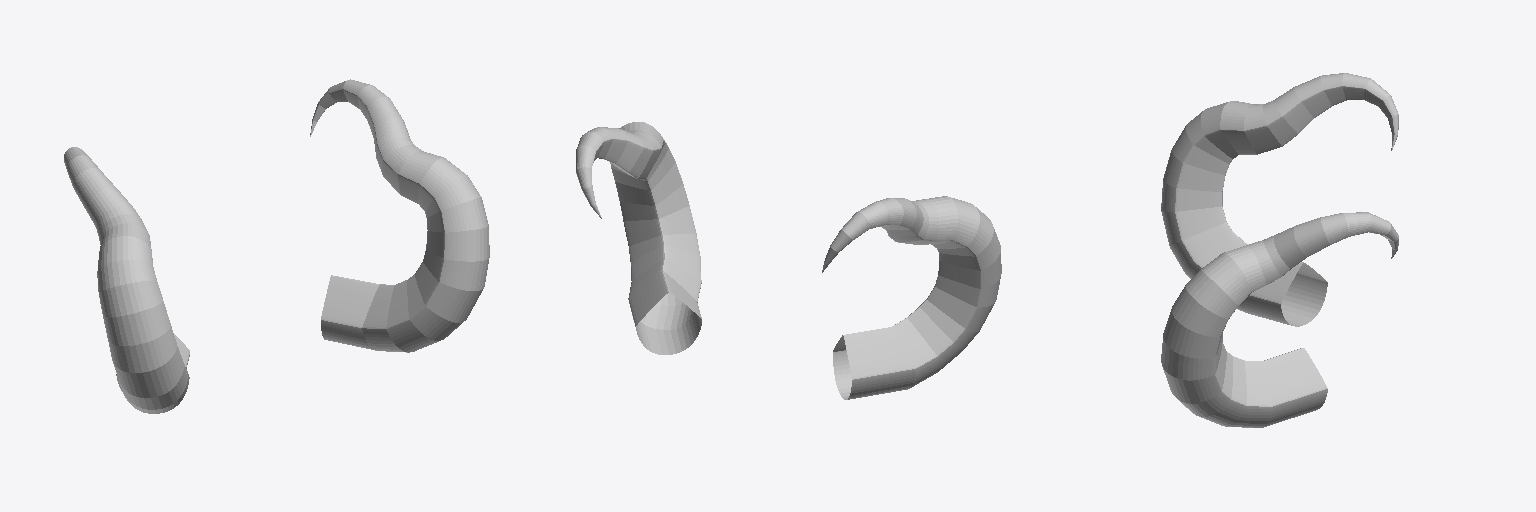
File: demonhorns.obj
The picture shows the model from 3 angles: view 1: azimuth 30°, elevation 25°; view 2: azimuth 150°, elevation 25°; view 3: azimuth 270°, elevation 25°; orthographic projection.
Parts seen in each view (by area): view 1: snowhorns_Spiral.001; view 2: snowhorns_Spiral.001; view 3: snowhorns_Spiral.001.
Boxes of the visible parts, x1,y1,x2,y2 form: snowhorns_Spiral.001: [64, 79, 489, 413]; snowhorns_Spiral.001: [576, 122, 1001, 399]; snowhorns_Spiral.001: [1161, 73, 1398, 427].
Bounding box in the file's own units: 1.45 × 0.821 × 0.7897.